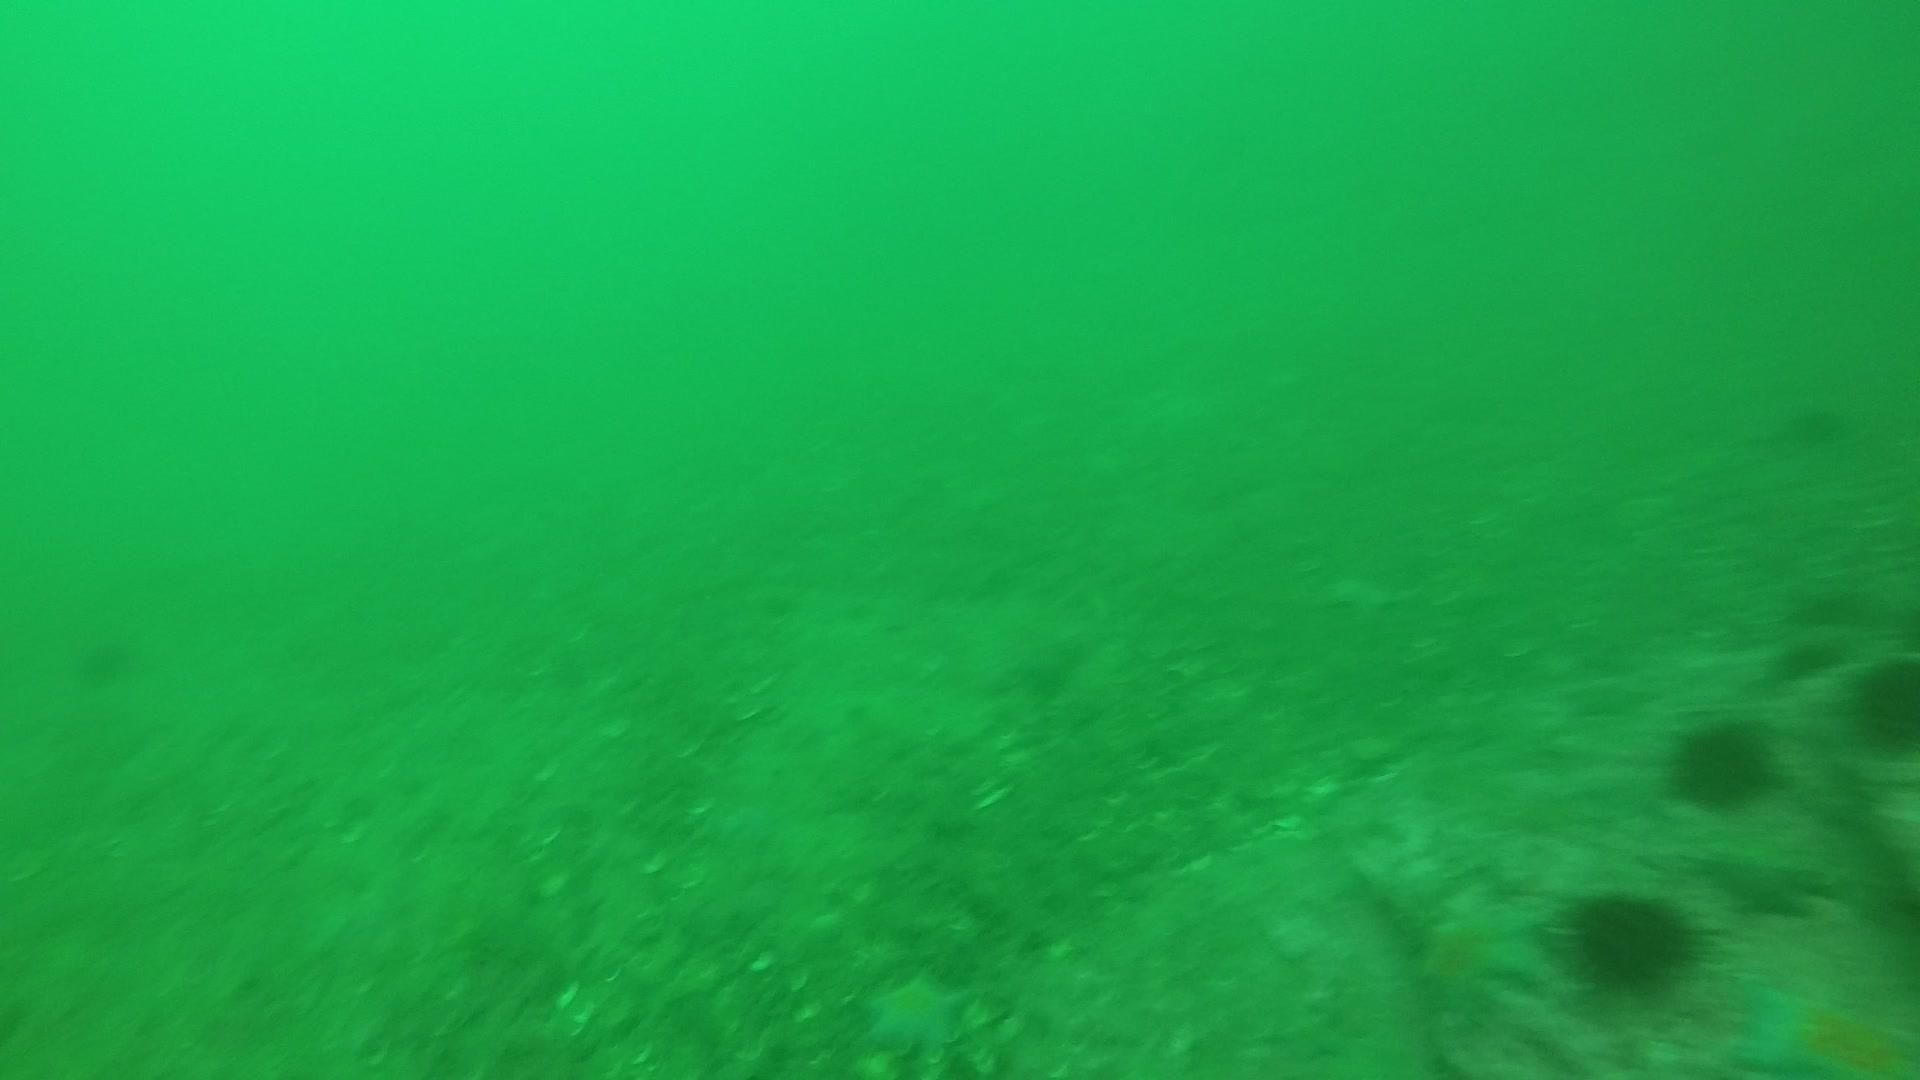echinus: (1559, 884, 1704, 997), (1663, 711, 1779, 814), (1844, 649, 1919, 756), (70, 626, 140, 690)
starfish: (1727, 971, 1913, 1075), (1408, 891, 1545, 1014), (856, 963, 975, 1064)
